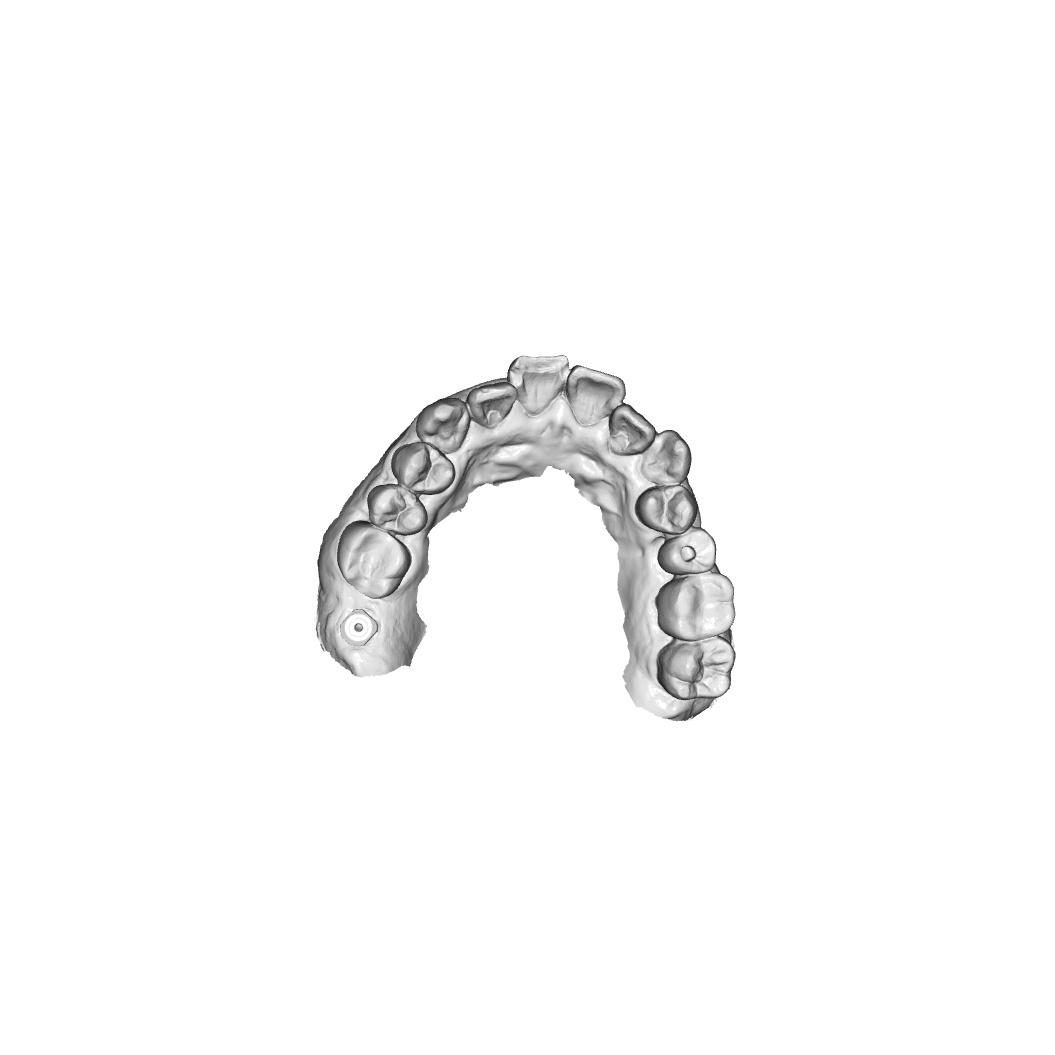canine: (415, 396, 472, 455), (639, 428, 693, 487)
implant: (338, 607, 380, 649)
incisor: (507, 353, 571, 419), (565, 363, 627, 428), (606, 402, 657, 456), (465, 381, 519, 430)
molar: (336, 520, 413, 601), (654, 571, 737, 642), (656, 635, 738, 702)
premolar: (390, 441, 457, 497), (634, 482, 700, 536), (366, 484, 429, 536), (656, 527, 718, 577)
